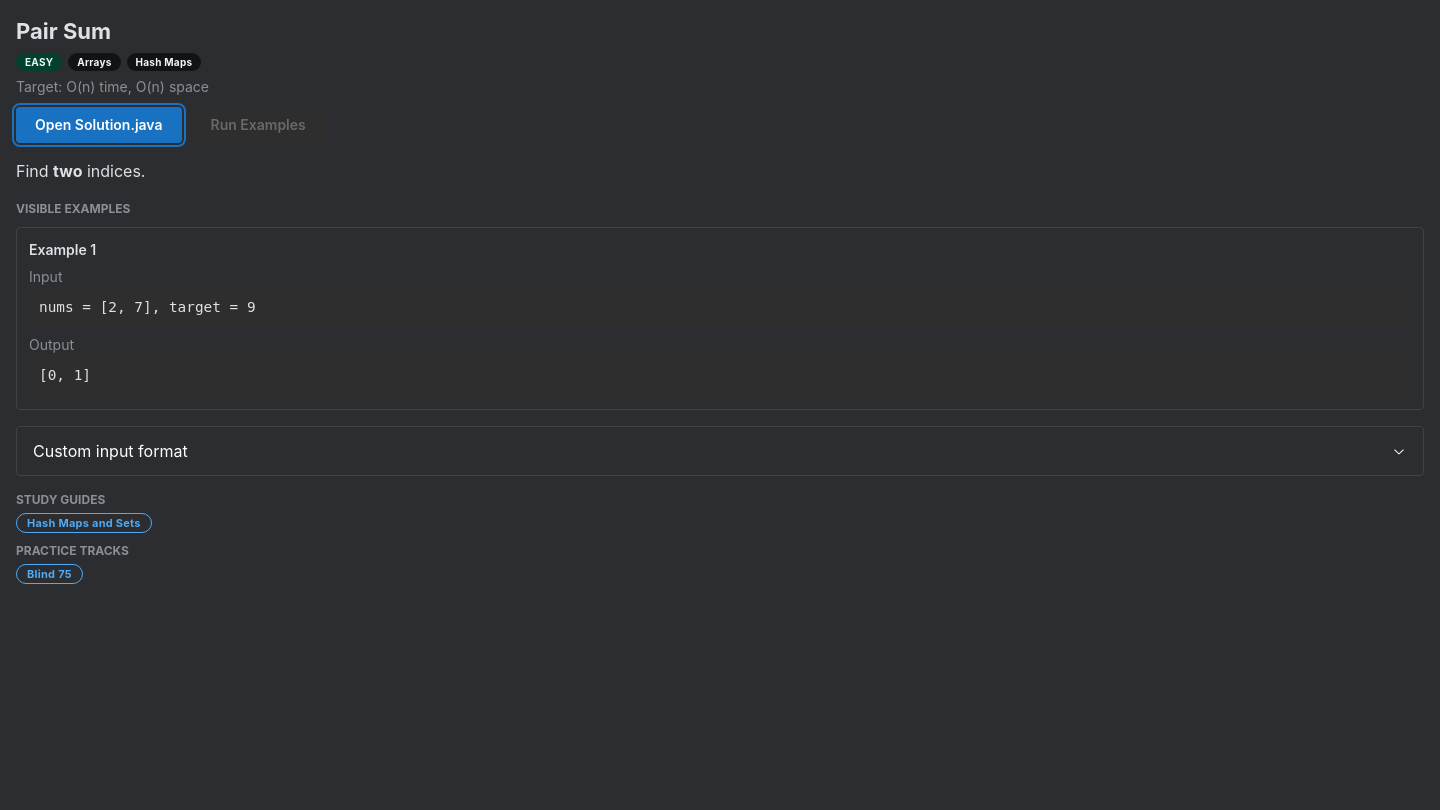
App › wires problem action buttons and sample input controls
Earlier steps of the test are not shown.
Later steps or results of the test are not shown.
Check: the button "Open Solution.java" is enabled, box top-left (16, 107), bottom-right (182, 143)
Check: the button "Run Examples" is disabled, box top-left (192, 107), bottom-right (325, 143)
Click the button "Custom input format" at [110, 451], box top-left (17, 427), bottom-right (1423, 475)
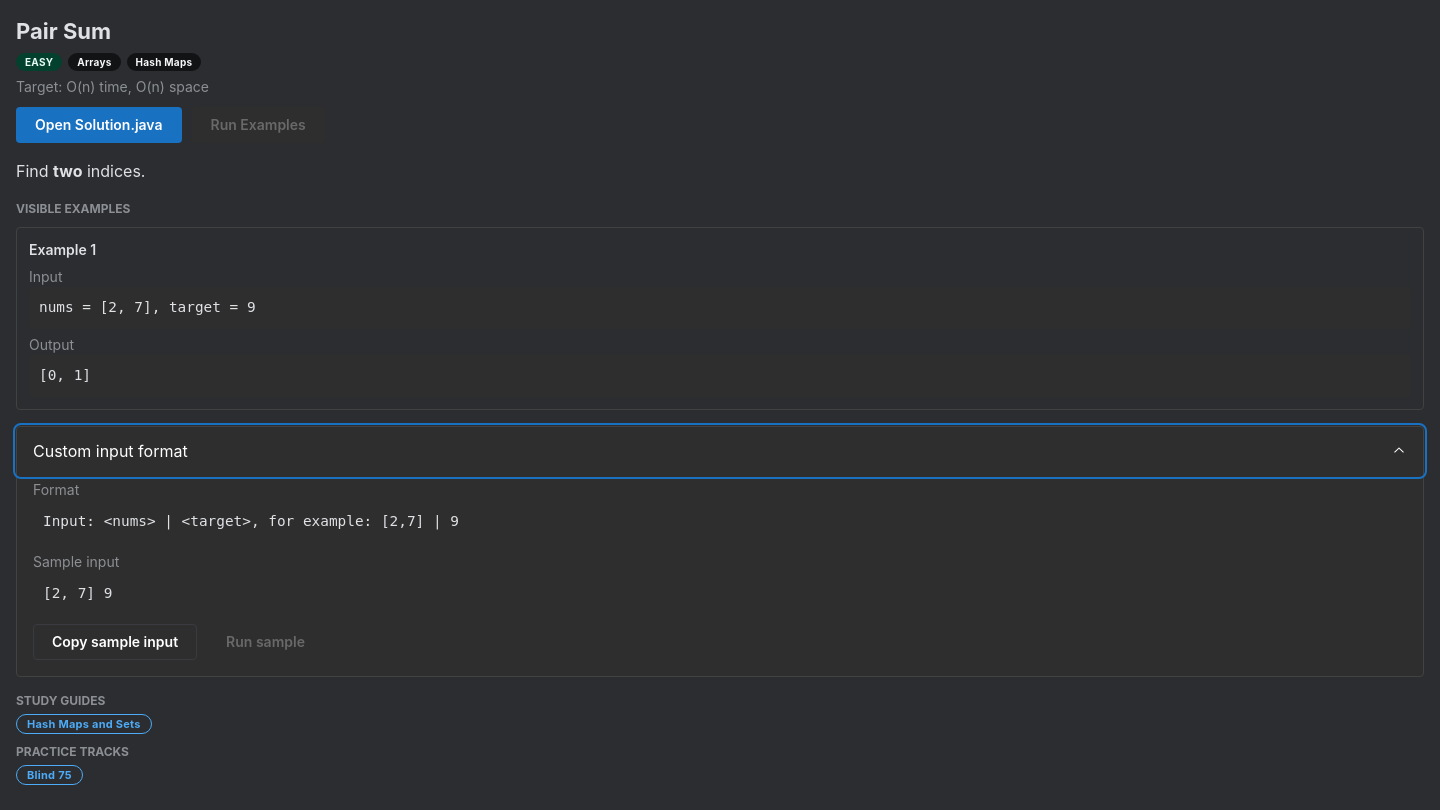
Check: the button "Run sample" is disabled, box top-left (207, 624), bottom-right (324, 660)
